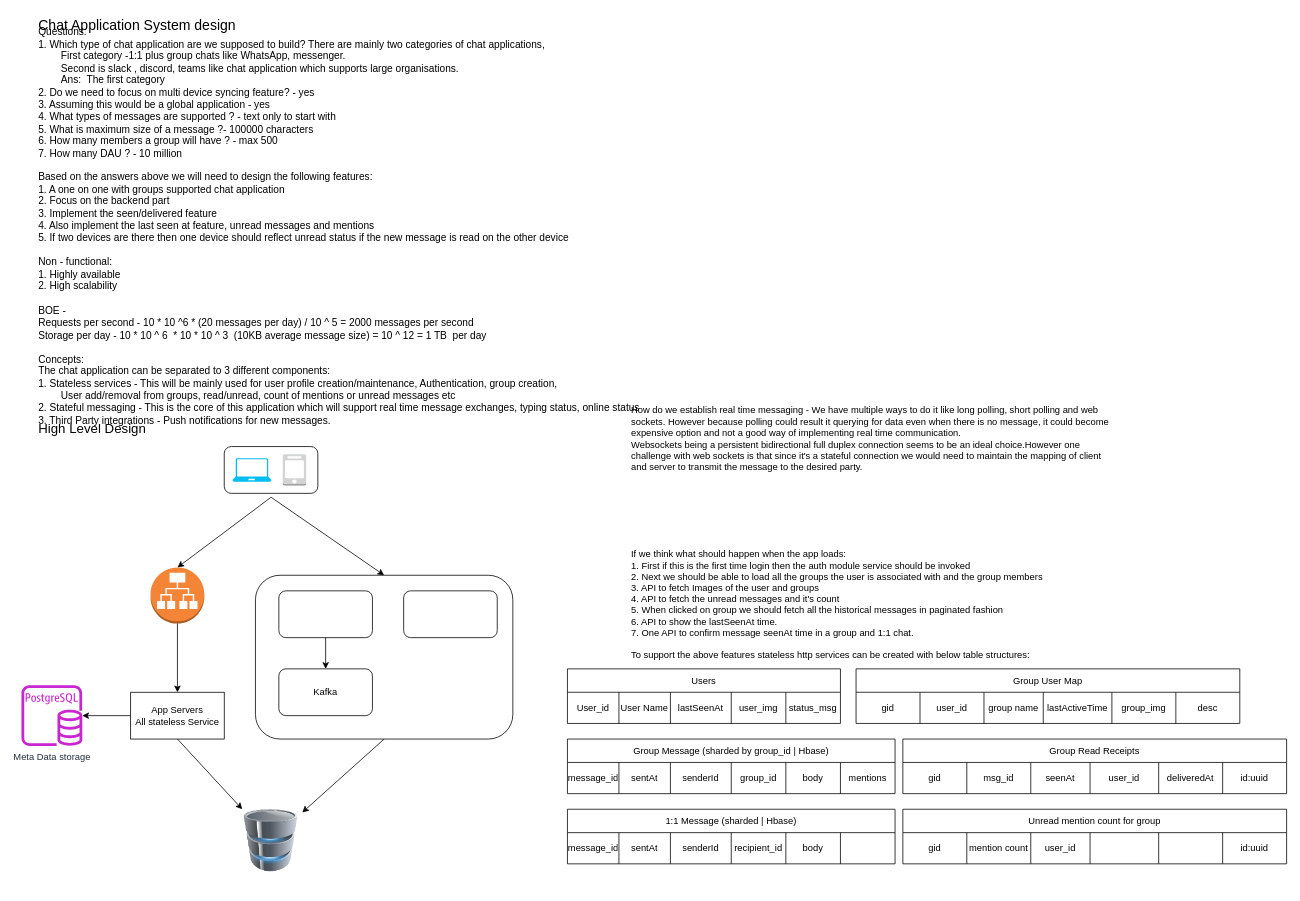
This 1300x901 diagram has some shape labels left out. The centre of each missing label's shape, as x and y in pixels:
Chat Servers Websockets: the point at 325,614
KV store (Base): the point at 270,840
Load Balancer: the point at 177,595
Presence Servers: the point at 450,614
